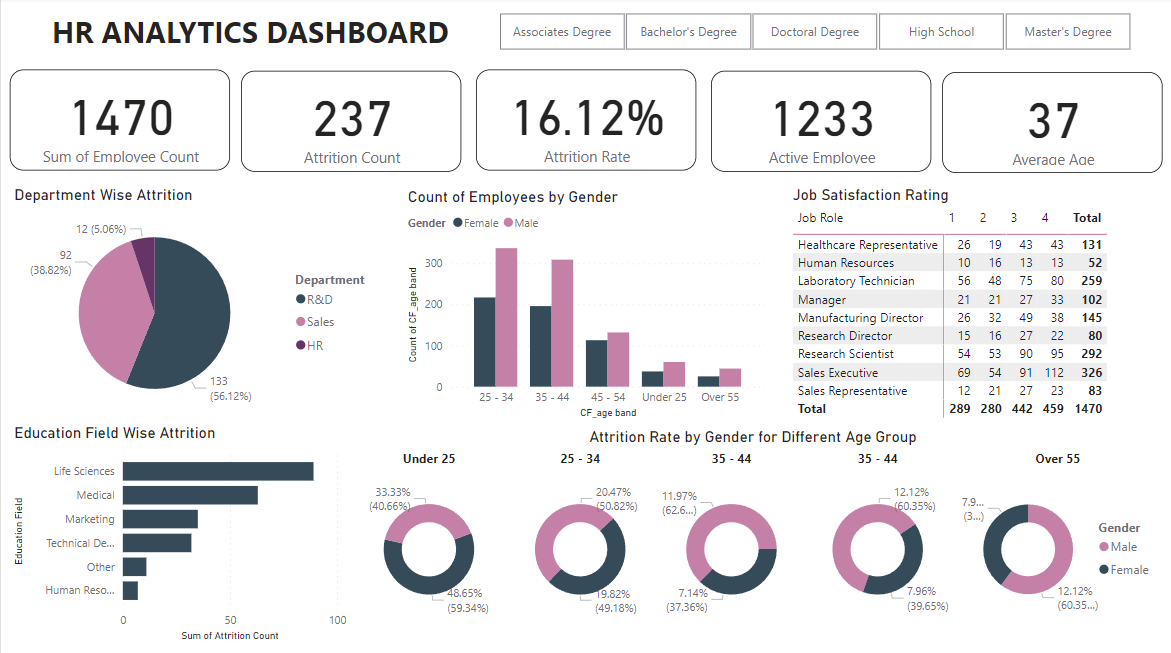

What the dashboard file says about the page in this screenshot:
{"tool":"powerbi","page":{"name":"Page 1","canvas":[1280,720],"ordinal":0},"visuals":[{"type":"textbox","box":[9.6,10.9,526,53.3],"z":0},{"type":"card","fields":{"Values":["Sum(HR data.Employee Count)"]},"box":[9.6,79.2,240.5,110.7],"z":1000},{"type":"card","fields":{"Values":["Sum(HR data.Attrition Count)"]},"box":[262.3,80.6,240.5,110.7],"z":2000},{"type":"card","fields":{"Values":["HR data.Attrition Rate"]},"box":[519.2,79.2,240.5,110.7],"z":3000},{"type":"card","fields":{"Values":["HR data.Active Employee"]},"box":[776.1,80.6,240.5,110.7],"z":4000},{"type":"card","fields":{"Values":["Avg(HR data.Age)"]},"box":[1028.9,82,240.5,110.7],"z":5000},{"type":"pieChart","title":"Department Wise Attrition","fields":{"Y":["Sum(HR data.Attrition Count)"],"Category":["HR data.Department"]},"box":[9.6,206.3,409.9,259.6],"z":6000},{"type":"clusteredColumnChart","title":"Count of Employees by Gender","fields":{"Category":["HR data.CF_age band"],"Y":["CountNonNull(HR data.CF_age band)"],"Series":["HR data.Gender"]},"box":[440,207.7,400.3,258.2],"z":7000},{"type":"pivotTable","title":"Job Satisfaction Rating","fields":{"Rows":["HR data.Job Role"],"Columns":["HR data.Job Satisfaction"],"Values":["Sum(HR data.Employee Count)"]},"box":[860.8,206.3,397.6,259.6],"z":8000},{"type":"barChart","title":"Education Field Wise Attrition","fields":{"Category":["HR data.Education Field"],"Y":["Sum(HR data.Attrition Count)"]},"box":[9.6,465.9,373,243.2],"z":9000},{"type":"textbox","box":[385.3,465.9,873.1,31.4],"z":10000},{"type":"donutChart","fields":{"Category":["HR data.Gender"],"Y":["HR data.Attrition Rate"],"Series":["HR data.CF_age band"]},"box":[385.3,521.9,165.3,164],"z":11000},{"type":"donutChart","fields":{"Category":["HR data.Gender"],"Y":["HR data.Attrition Rate"],"Series":["HR data.CF_age band"]},"box":[1041.2,522.5,229.5,164],"z":12000},{"type":"donutChart","fields":{"Category":["HR data.Gender"],"Y":["HR data.Attrition Rate"],"Series":["HR data.CF_age band"]},"box":[550.6,522.5,165.3,164],"z":13000},{"type":"donutChart","fields":{"Category":["HR data.Gender"],"Y":["HR data.Attrition Rate"],"Series":["HR data.CF_age band"]},"box":[716,522.5,165.3,164],"z":14000},{"type":"donutChart","fields":{"Category":["HR data.Gender"],"Y":["HR data.Attrition Rate"],"Series":["HR data.CF_age band"]},"box":[875.8,521.9,165.3,164],"z":15000},{"type":"textbox","box":[385.3,490.5,165.3,31.4],"z":16000},{"type":"textbox","box":[550.6,490.5,165.3,31.4],"z":17000},{"type":"textbox","box":[716,490.5,165.3,31.4],"z":18000},{"type":"textbox","box":[875.8,490.5,165.3,31.4],"z":19000},{"type":"textbox","box":[1041.2,490.5,228.2,31.4],"z":20000},{"type":"slicer","fields":{"Values":["HR data.Education"]},"box":[519.2,10.9,739.2,53.3],"z":21000}]}

Visuals, with their boxes in screenshot pixels (x1, y1, x2, y2), scaled from the page's 1280x720 canvas onto the 1171x653 screenshot:
textbox: <region>9, 10, 490, 58</region>
card - Sum(HR data.Employee Count): <region>9, 72, 229, 172</region>
card - Sum(HR data.Attrition Count): <region>240, 73, 460, 173</region>
card - HR data.Attrition Rate: <region>475, 72, 695, 172</region>
card - HR data.Active Employee: <region>710, 73, 930, 173</region>
card - Avg(HR data.Age): <region>941, 74, 1161, 175</region>
"Department Wise Attrition" pieChart: <region>9, 187, 384, 423</region>
"Count of Employees by Gender" clusteredColumnChart: <region>403, 188, 769, 423</region>
"Job Satisfaction Rating" pivotTable: <region>787, 187, 1151, 423</region>
"Education Field Wise Attrition" barChart: <region>9, 423, 350, 643</region>
textbox: <region>352, 423, 1151, 451</region>
donutChart - HR data.Gender x HR data.Attrition Rate: <region>352, 473, 504, 622</region>
donutChart - HR data.Gender x HR data.Attrition Rate: <region>953, 474, 1162, 623</region>
donutChart - HR data.Gender x HR data.Attrition Rate: <region>504, 474, 655, 623</region>
donutChart - HR data.Gender x HR data.Attrition Rate: <region>655, 474, 806, 623</region>
donutChart - HR data.Gender x HR data.Attrition Rate: <region>801, 473, 952, 622</region>
textbox: <region>352, 445, 504, 473</region>
textbox: <region>504, 445, 655, 473</region>
textbox: <region>655, 445, 806, 473</region>
textbox: <region>801, 445, 952, 473</region>
textbox: <region>953, 445, 1161, 473</region>
slicer - HR data.Education: <region>475, 10, 1151, 58</region>
